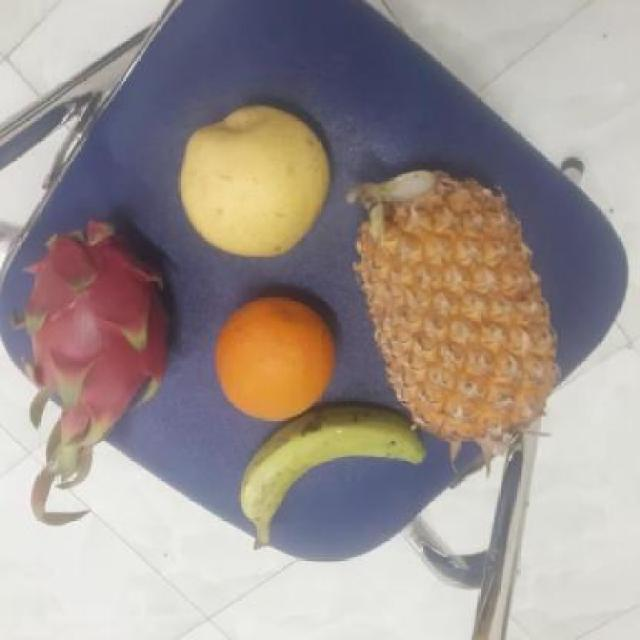banana: (242, 410, 424, 548)
dragon fruit: (8, 213, 185, 444)
oren: (213, 294, 342, 418)
pear: (184, 107, 345, 256)
pineapple: (353, 165, 564, 440)
